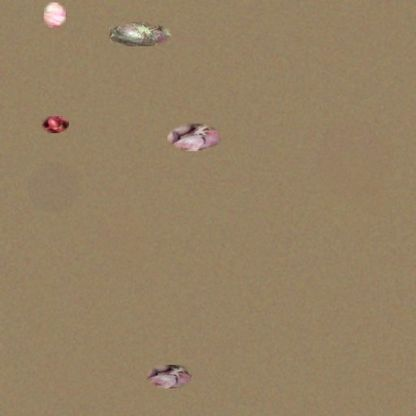damaged: (106, 22, 171, 46)
healthy: (41, 116, 69, 133)
rotten: (44, 2, 66, 28)
sprouted: (167, 124, 221, 151), (146, 365, 192, 388)
